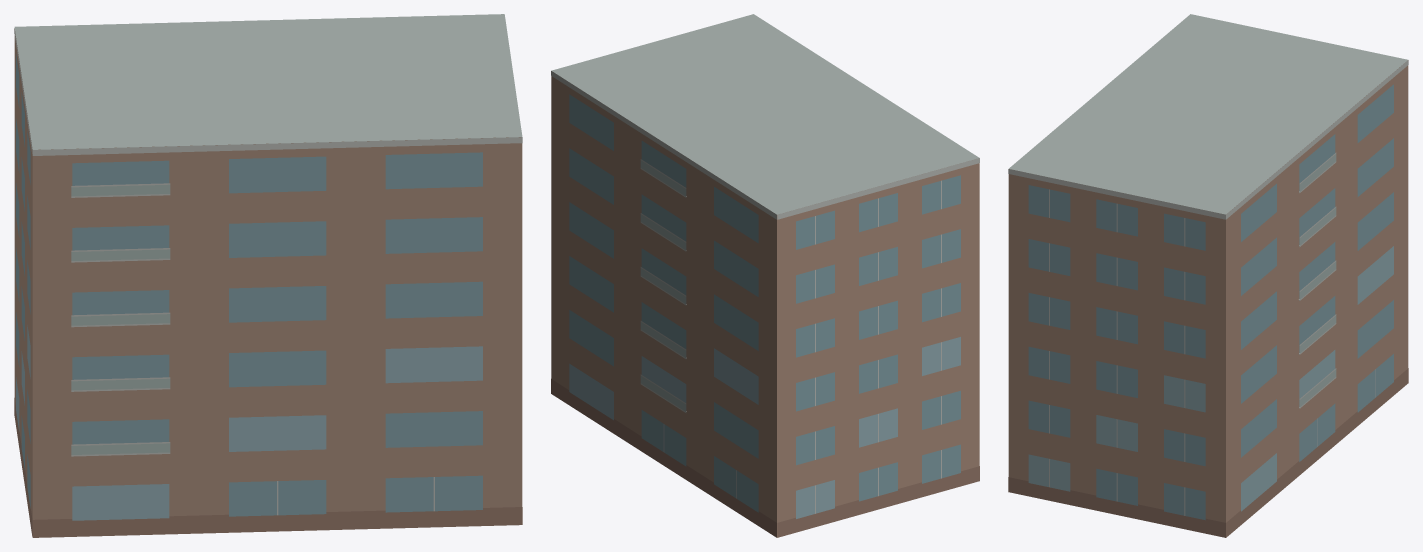
The model's file is survey-upis-32886158.glb.
3 renders of one model, left to right at view 1: azimuth 30°, elevation 25°; view 2: azimuth 150°, elevation 25°; view 3: azimuth 270°, elevation 25°, orthographic. The views are drawn at different scales.
Visible parts, largest first — view 1: survey-upis-32886158.tmp; view 2: survey-upis-32886158.tmp; view 3: survey-upis-32886158.tmp.
Part boxes in pixels (x1,y1,x2,y2): survey-upis-32886158.tmp: (14,14,522,537); survey-upis-32886158.tmp: (551,14,979,537); survey-upis-32886158.tmp: (1008,14,1408,537).
Size of the model in its own units: 20.5 by 15.4 by 17.28.
